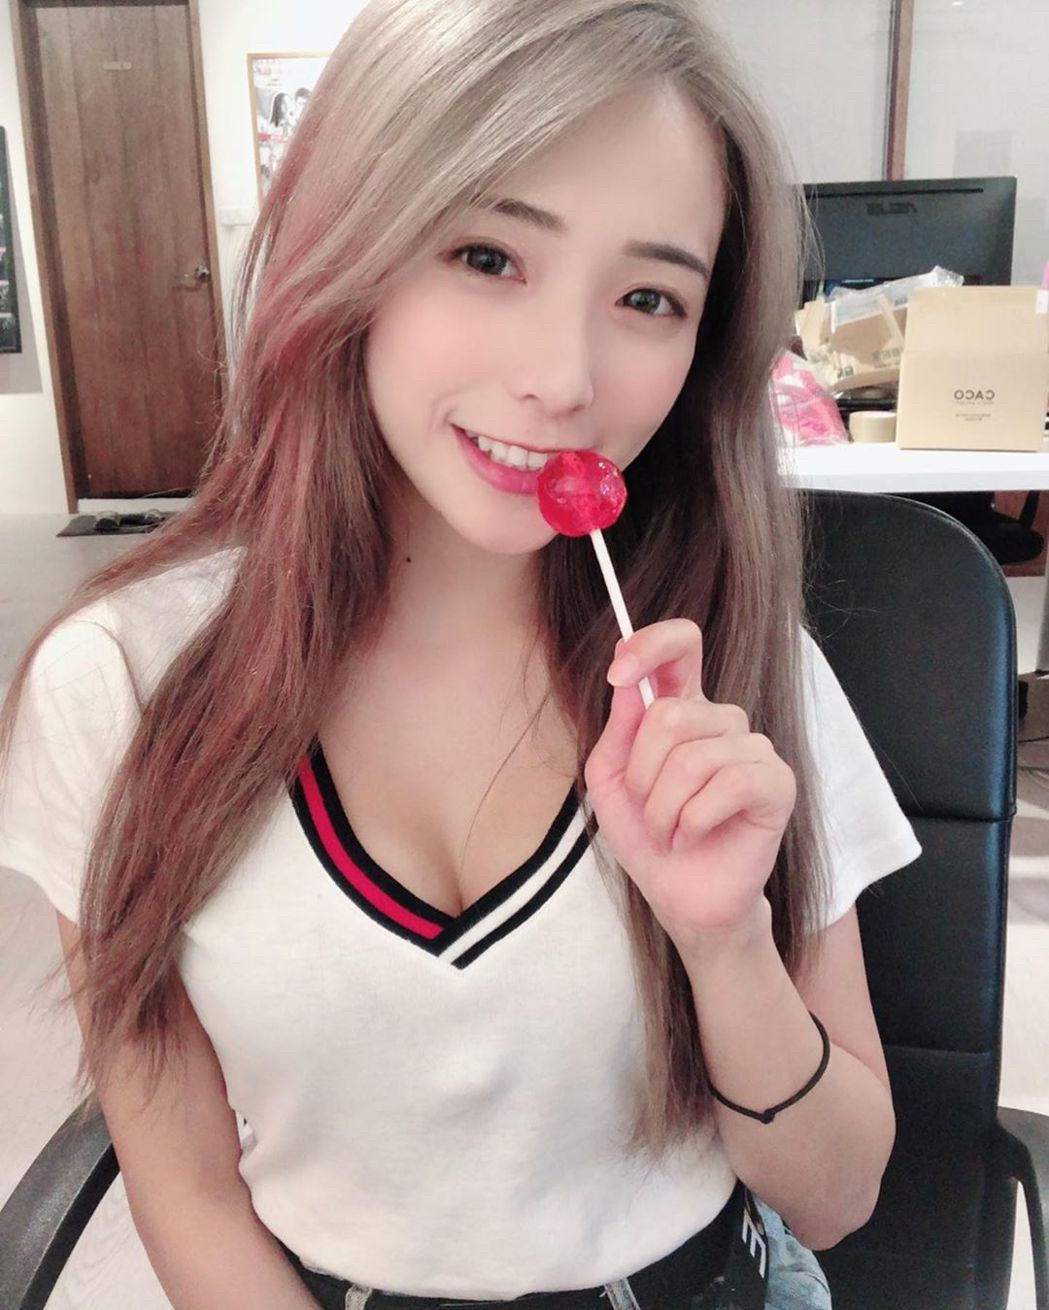people: (110, 6, 781, 1310)
